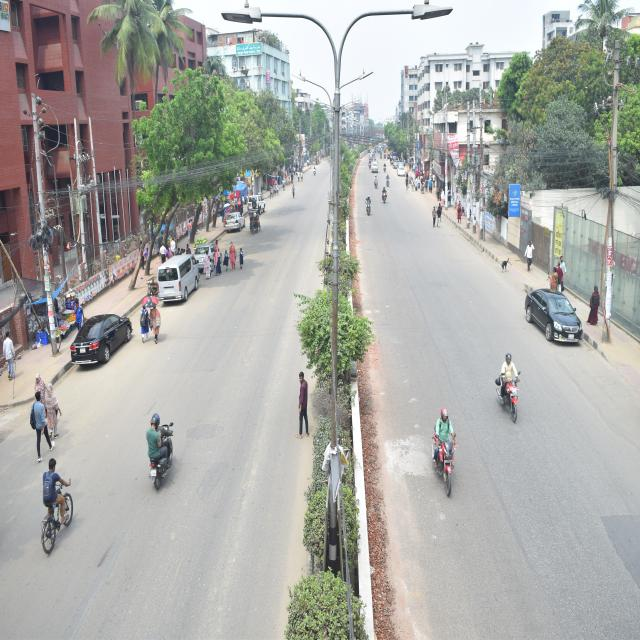car: (517, 264, 597, 374), (60, 293, 149, 380), (190, 226, 229, 289), (238, 179, 276, 220), (222, 200, 251, 239), (398, 160, 408, 185), (370, 158, 382, 173)
microbus: (150, 241, 209, 310)
motorbike: (122, 402, 194, 494), (419, 387, 466, 508), (487, 339, 525, 433), (364, 190, 374, 224), (382, 188, 394, 214), (384, 166, 393, 193), (382, 157, 389, 182), (311, 164, 320, 182), (372, 171, 380, 191)
